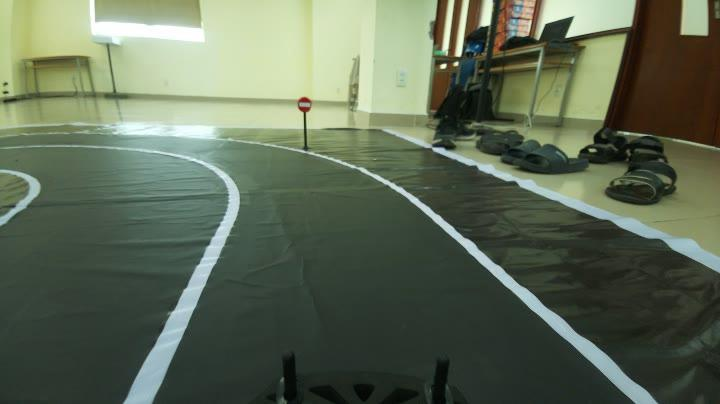no_entry: (293, 94, 316, 113)
